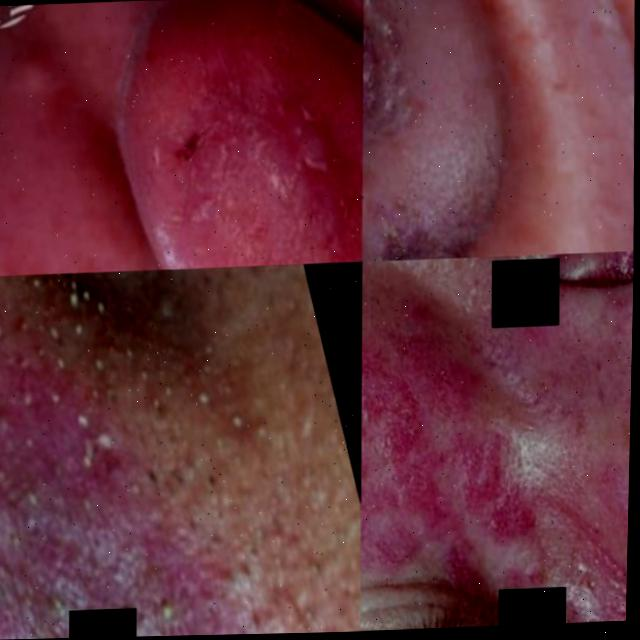lupus-detected: (0, 276, 367, 640), (353, 250, 634, 631), (98, 0, 367, 272), (460, 250, 634, 626), (356, 0, 580, 245), (359, 115, 529, 261)
